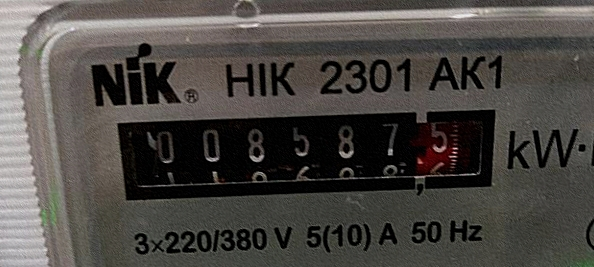0: (198, 124, 223, 165)
1: (152, 126, 177, 168)
5: (427, 115, 452, 156), (289, 121, 313, 160)
7: (378, 118, 402, 160)
8: (242, 124, 268, 166), (334, 120, 356, 162)
screen: (96, 87, 518, 223)
